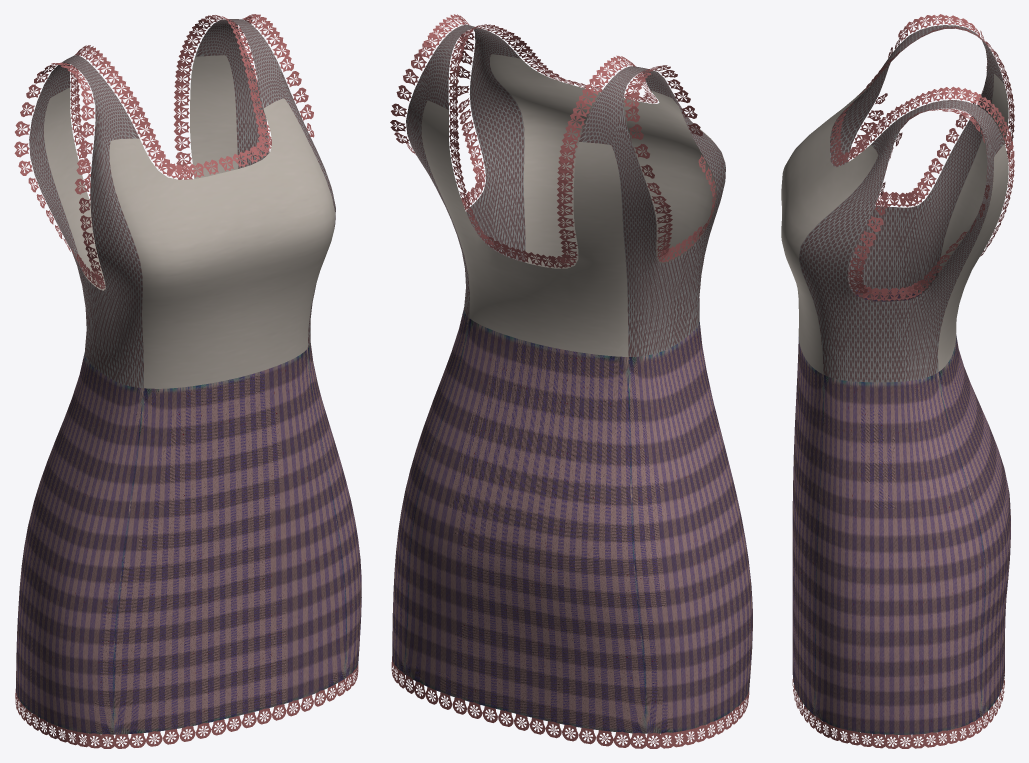
File: dress.glb
3 views of the same model, side by side, from view 1: azimuth 30°, elevation 25°; view 2: azimuth 150°, elevation 25°; view 3: azimuth 270°, elevation 25° (orthographic). The views are drawn at different scales.
Visible parts, largest first — view 1: minidress; view 2: minidress; view 3: minidress.
Boxes of the visible parts, bbox=[...] form: minidress: bbox=[14, 14, 361, 748]; minidress: bbox=[390, 14, 752, 748]; minidress: bbox=[781, 14, 1014, 748].
Bounding box in the file's own units: 12.34 × 24.13 × 8.26.
5 materials, 5 textured.
